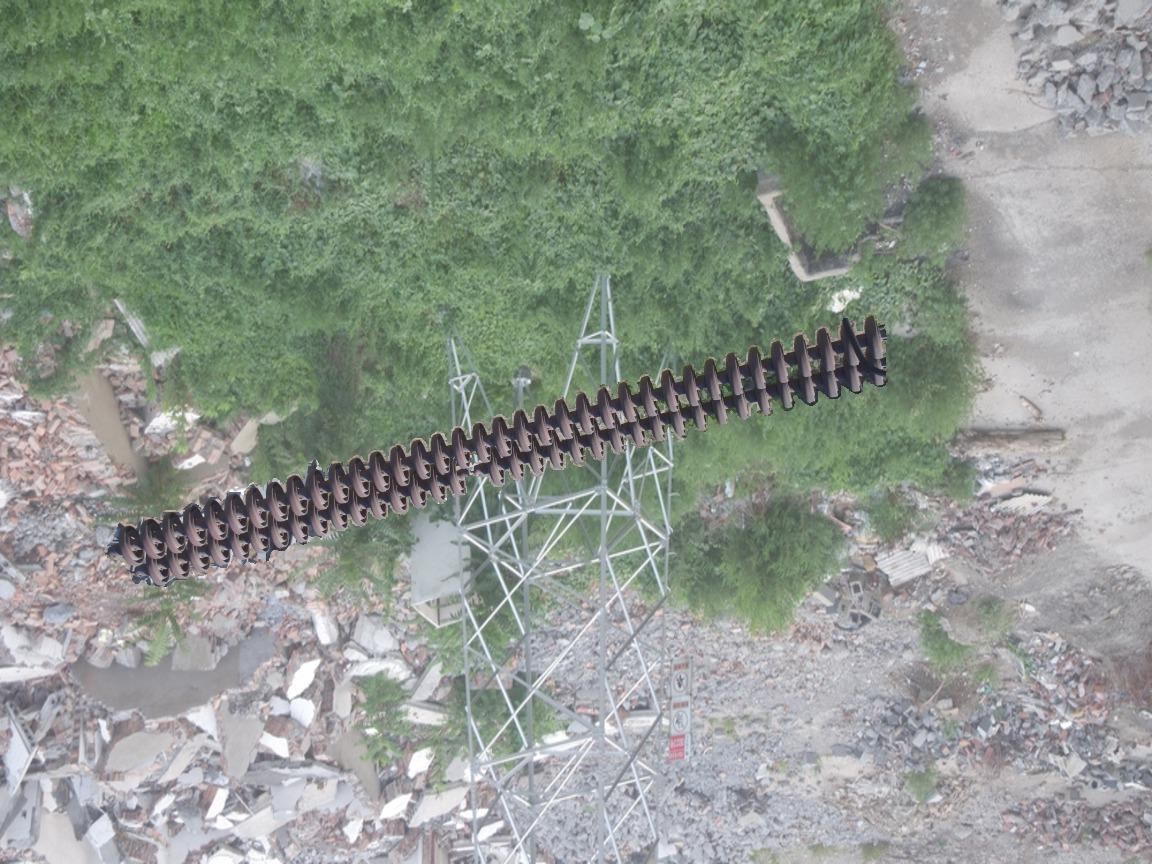insulator: (111, 311, 896, 590)
insulator_stringdrop: (443, 450, 508, 500)
